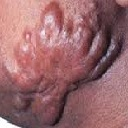Keloids: (15, 9, 117, 72), (1, 78, 73, 128)
